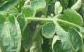Tomato mold leaf: (48, 15, 83, 52), (0, 13, 22, 52)
